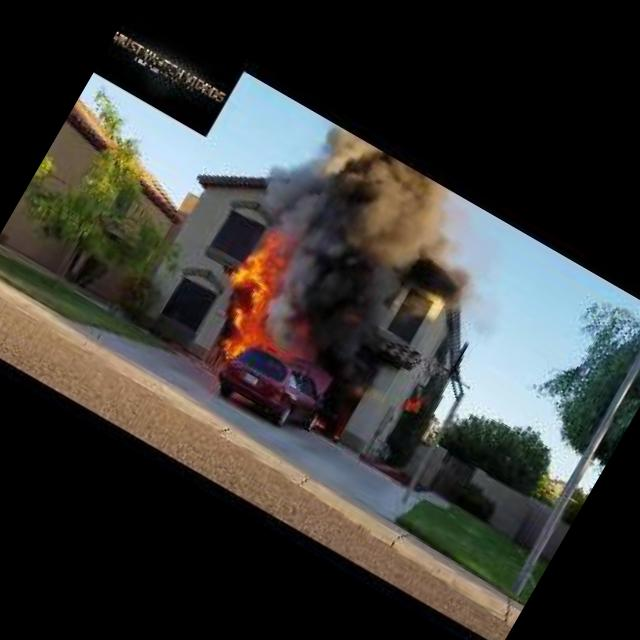fire: (190, 220, 340, 386), (405, 387, 430, 413), (318, 420, 328, 430)
smoke: (248, 138, 468, 394), (236, 105, 372, 258)
